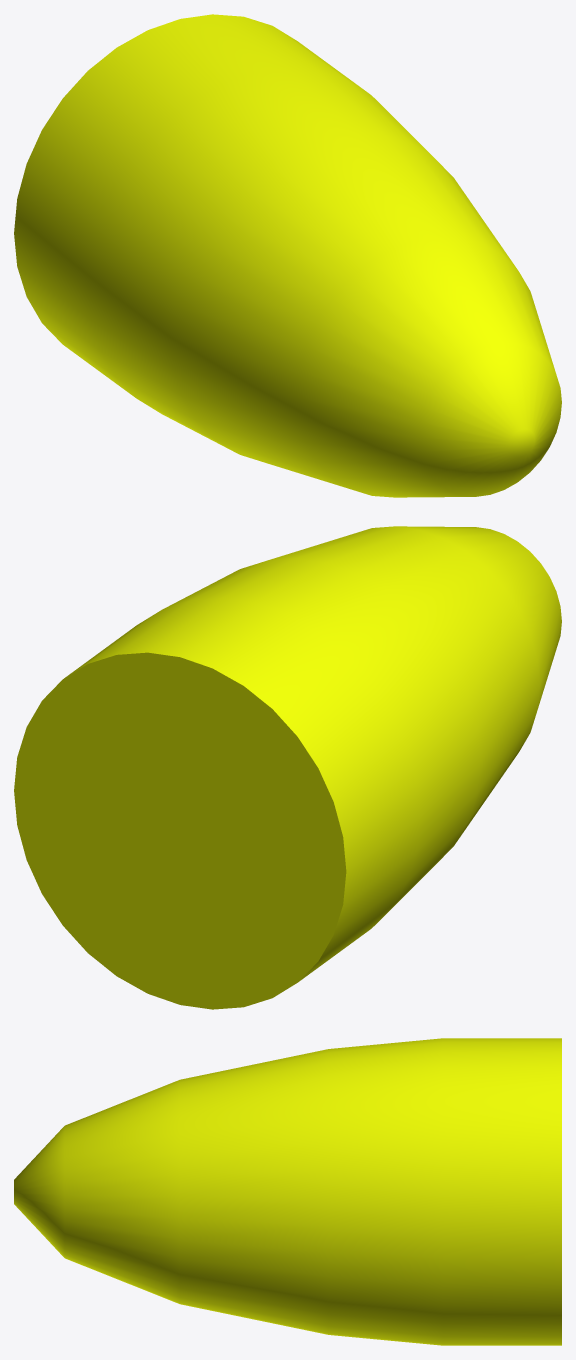
Rendered from Bullet.fbx.
The picture shows the model from 3 angles, top to bottom: view 1: azimuth 30°, elevation 25°; view 2: azimuth 150°, elevation 25°; view 3: azimuth 270°, elevation 25°; orthographic projection. The views are drawn at different scales.
Parts seen in each view (by area): view 1: 円柱; view 2: 円柱; view 3: 円柱.
Boxes of the visible parts, x1,y1,x2,y2 form: 円柱: [14, 14, 561, 497]; 円柱: [14, 526, 561, 1009]; 円柱: [14, 1038, 561, 1345].
Bounding box in the file's own units: 10.53 × 10.53 × 18.76.
